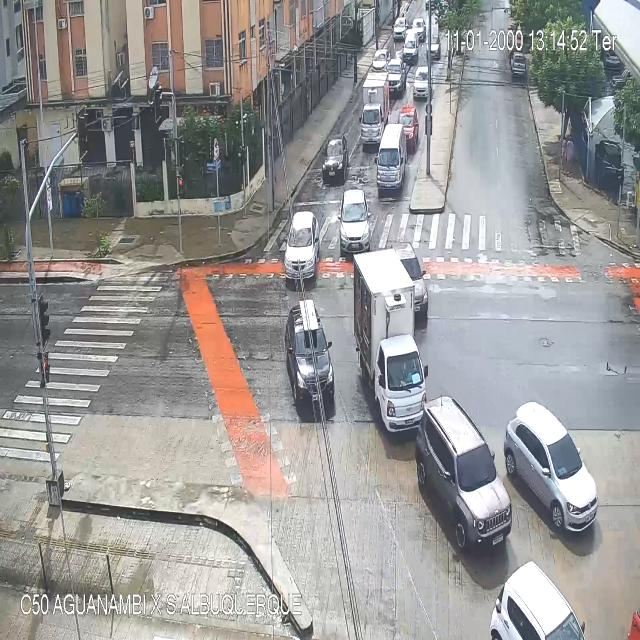Car: (416, 396, 512, 552), (503, 399, 599, 531), (489, 562, 585, 639), (284, 305, 334, 410), (391, 240, 429, 330), (283, 208, 320, 282), (336, 188, 370, 254), (376, 123, 405, 188), (322, 136, 350, 180), (395, 106, 417, 151), (386, 59, 406, 95), (414, 65, 434, 99), (402, 27, 420, 58), (372, 49, 392, 71), (427, 34, 441, 64), (392, 14, 407, 38), (512, 52, 525, 78), (412, 18, 424, 41)
Truck: (354, 250, 430, 430), (359, 73, 387, 139)
